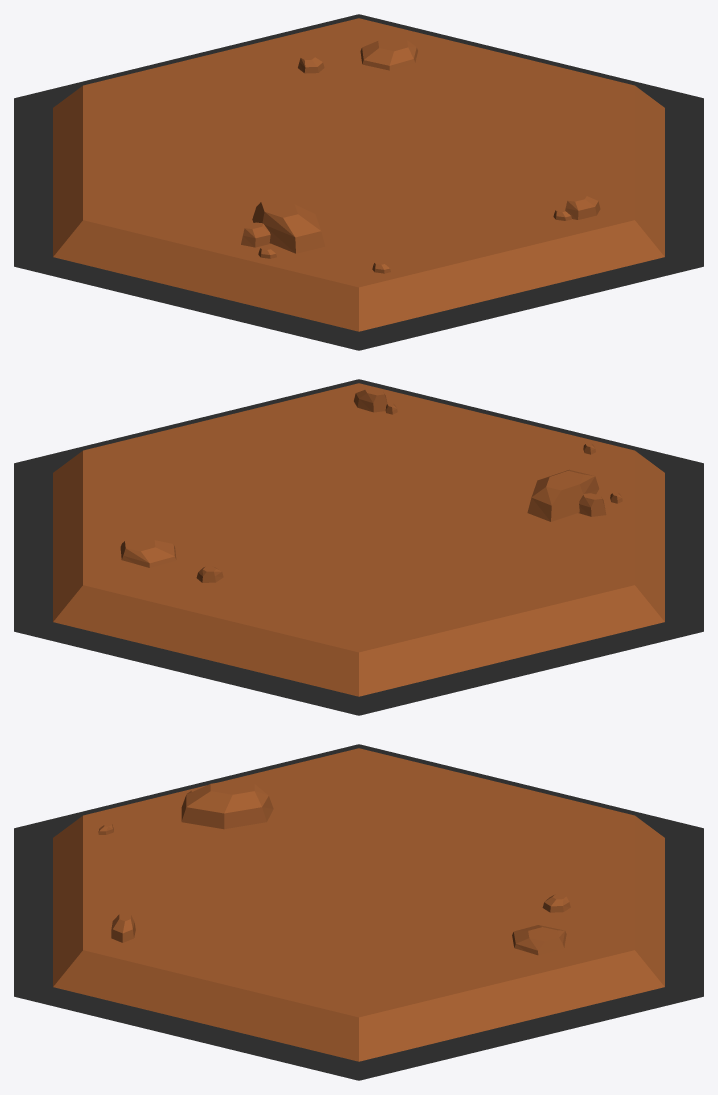
File: DirtTile.fbx
3 renders of one model, top to bottom at view 1: azimuth 30°, elevation 25°; view 2: azimuth 150°, elevation 25°; view 3: azimuth 270°, elevation 25°, orthographic.
Parts seen in each view (by area): view 1: Null_5; view 2: Null_5; view 3: Null_5.
Boxes of the visible parts, box(x1,y1,x2,y2) form: Null_5: box(14, 14, 703, 350); Null_5: box(14, 379, 703, 715); Null_5: box(14, 744, 703, 1080).
Size of the model in its own units: 100 by 8.41 by 86.6.
